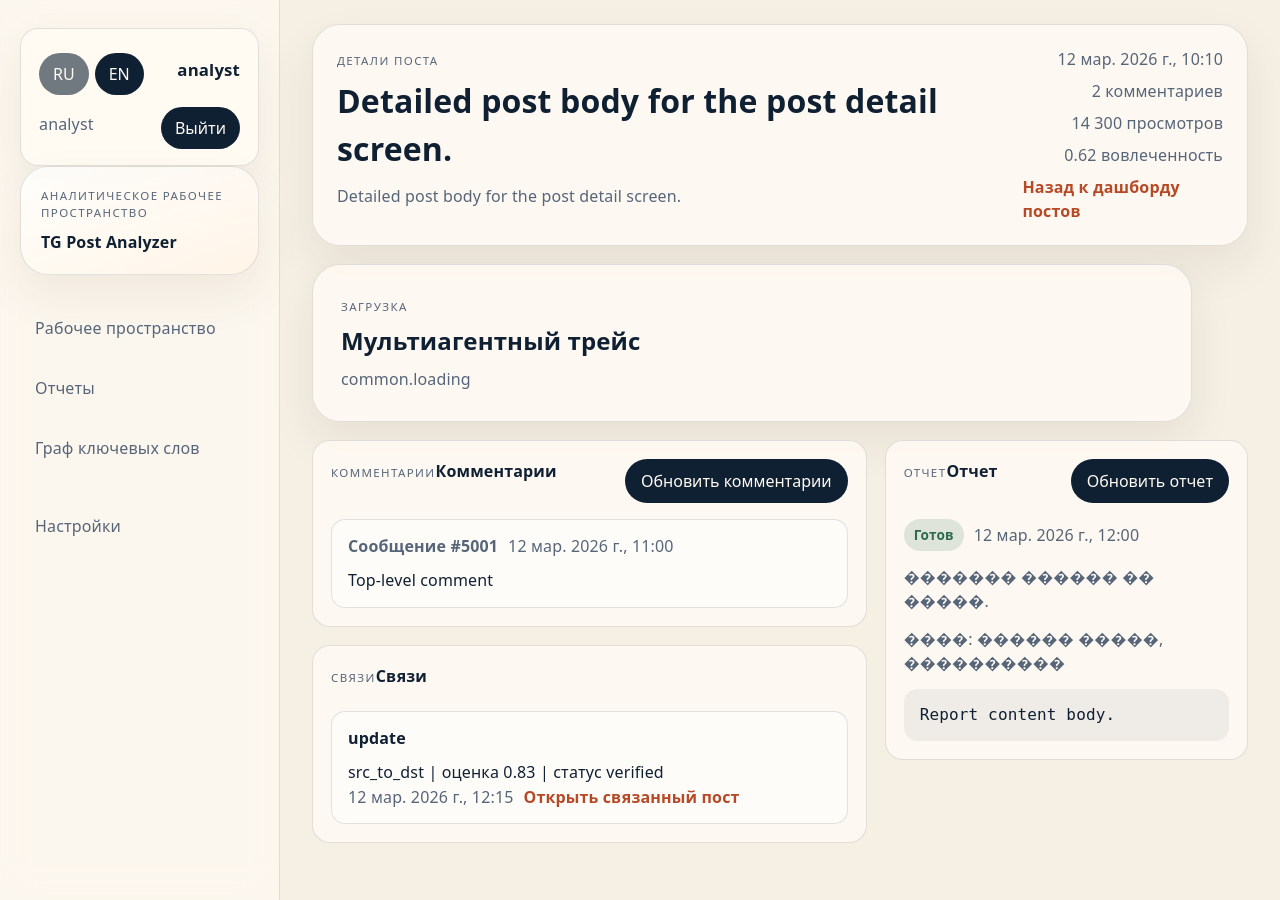
it: Post detail screen › runs refresh comments async job flow and invalidates detail queries
Click the button "Обновить комментарии": (736, 481) [625, 459, 848, 503]
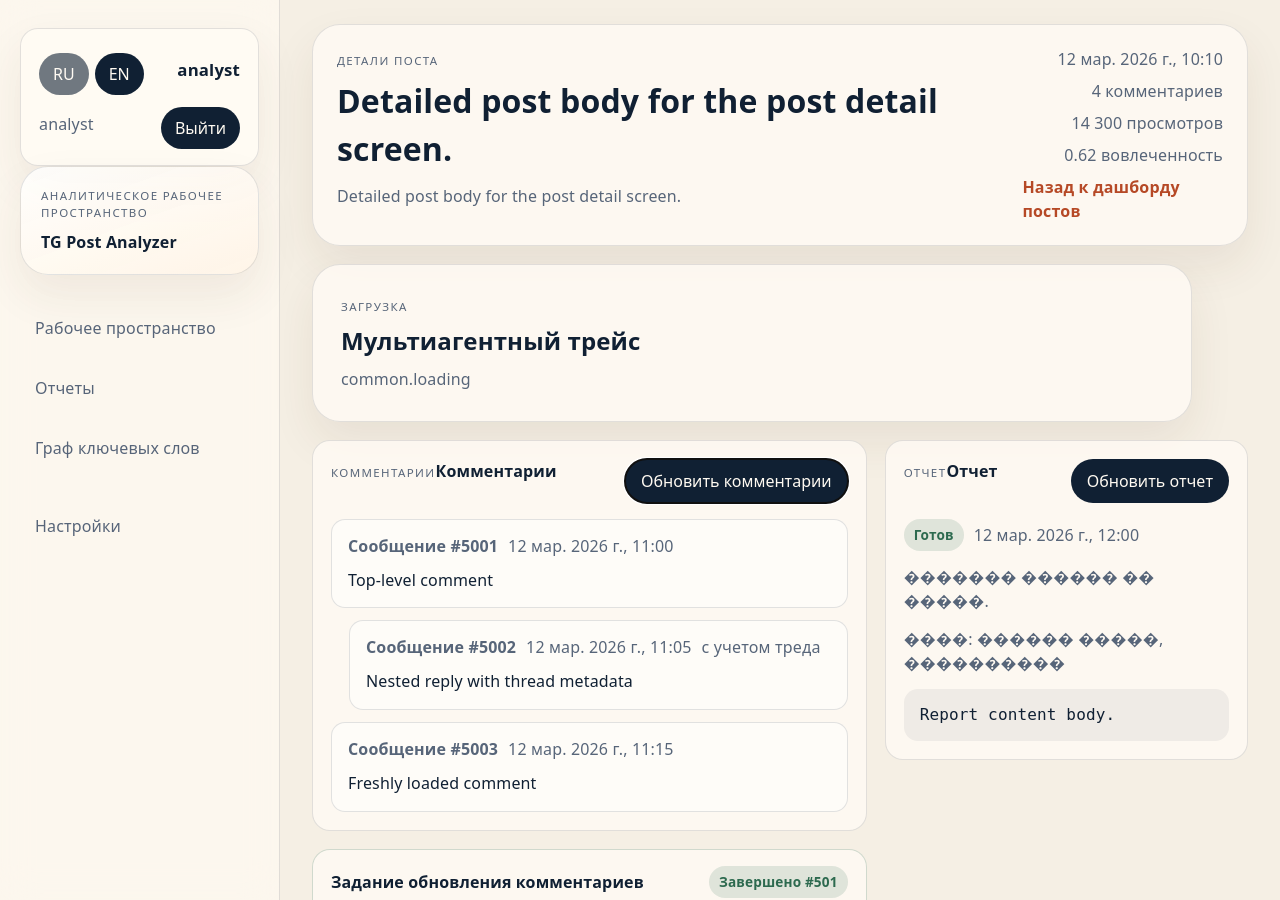
Expected: the text "Задание обновления комментариев" is shown, [331, 870, 644, 894]
Expected: the text "Freshly loaded comment" is shown, [348, 772, 536, 794]
